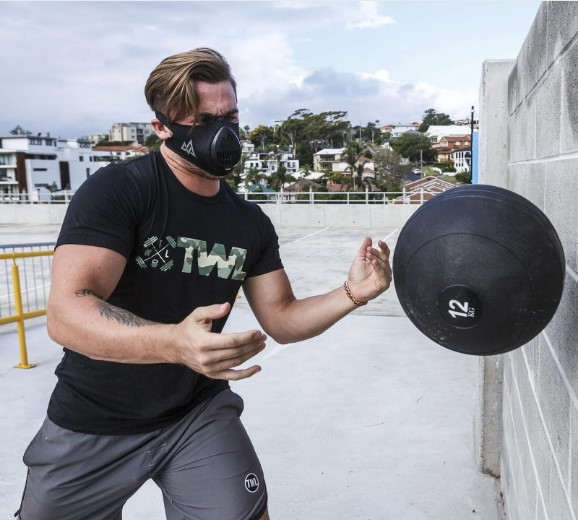face_with_mask: (147, 53, 244, 181)
